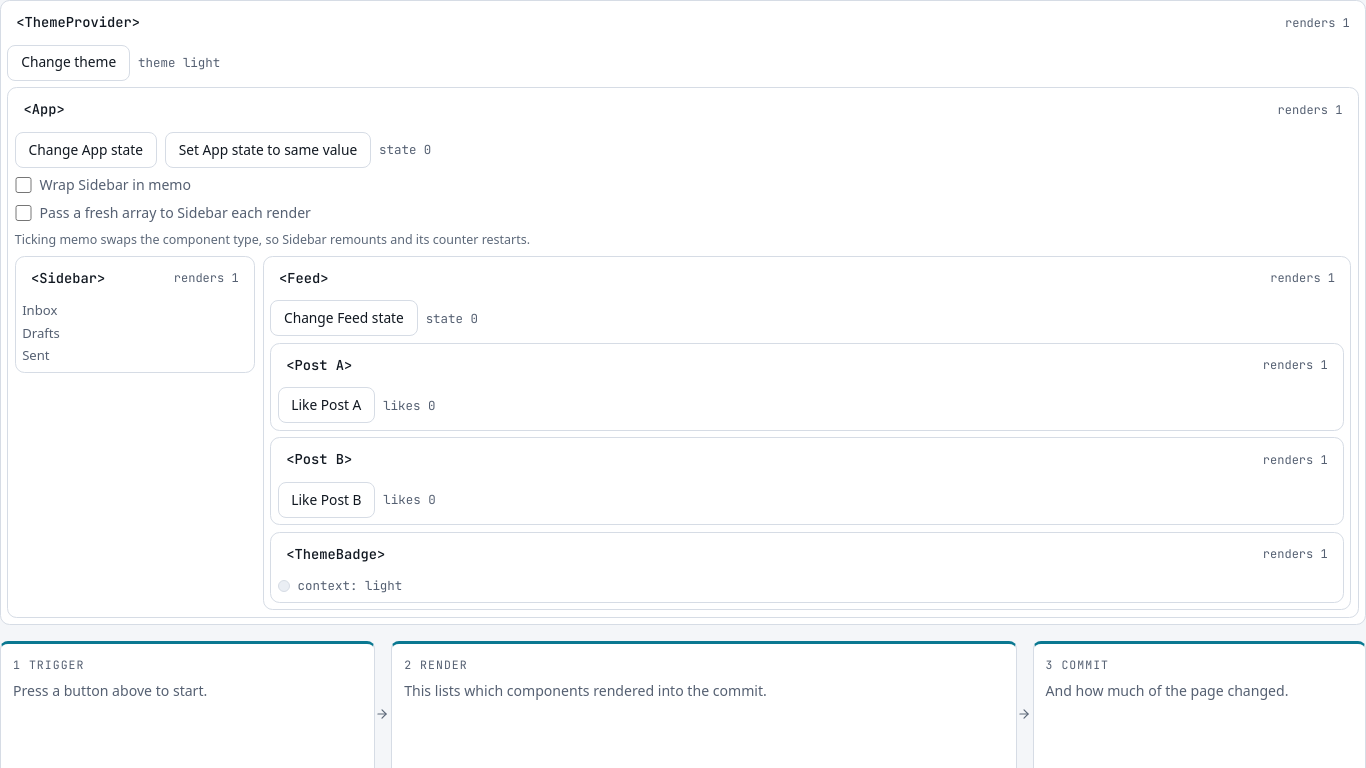
render-tree lab › reports that nothing rendered and nothing changed after a bail-out
Click the button "Set App state to same value" at (268,150), box [165,132,371,168]
(page scrolled)
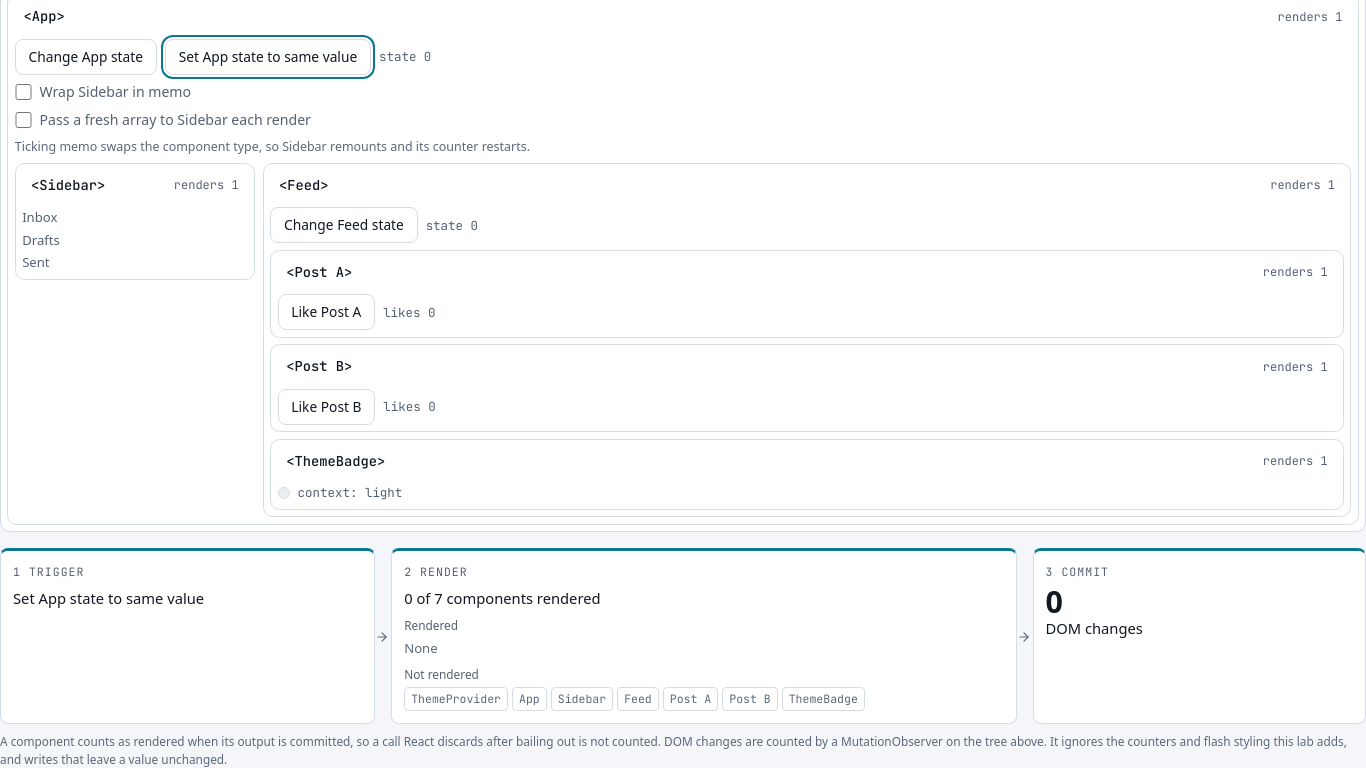
Now the text "Set App state to same value" is shown, box [13,588,204,608]
Now the message named "Last update" shows "0 of 7 components rendered", box [404,588,600,608]
Now the message named "Last update" shows "0 DOM changes", box [0,548,1365,724]
